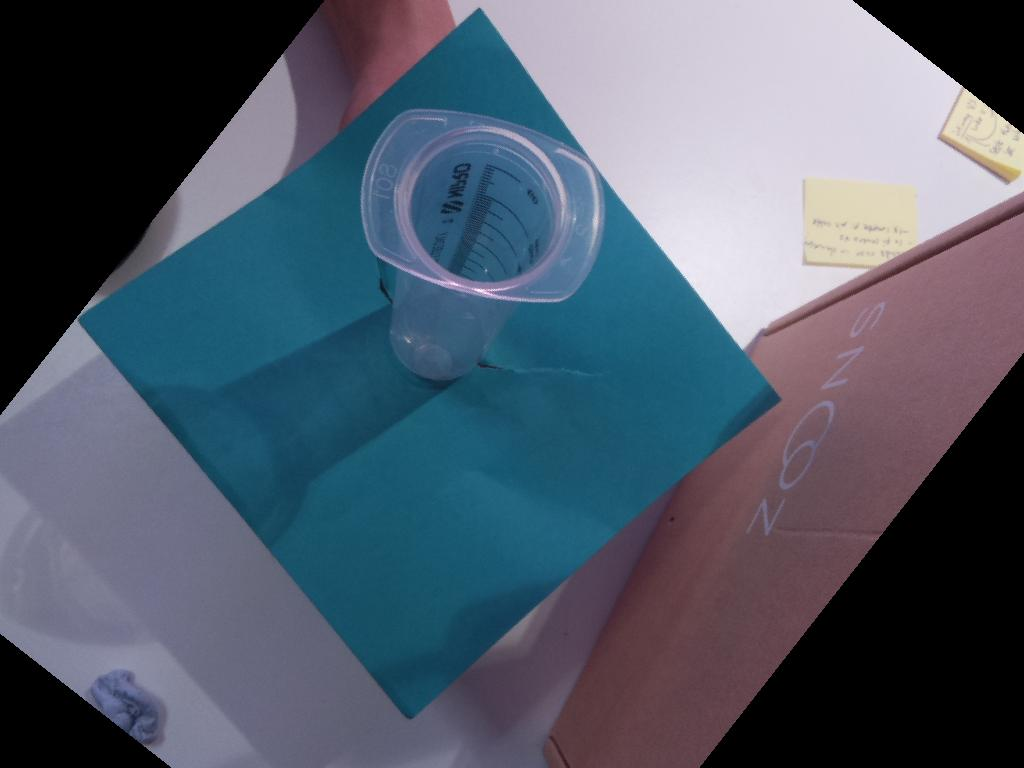clean: (360, 105, 608, 306)
